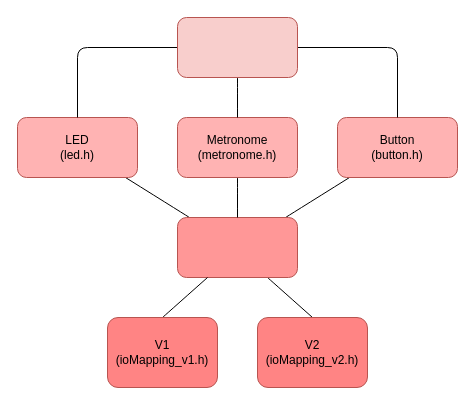
Image size: 475x405. Some labels were removed from this diagram. Here are the shapes that lost their labels. From the top down, the centre of each, then its label:
point 237,47: Main (main.cpp)
point 237,247: I/O mapping (ioMapping.h)
